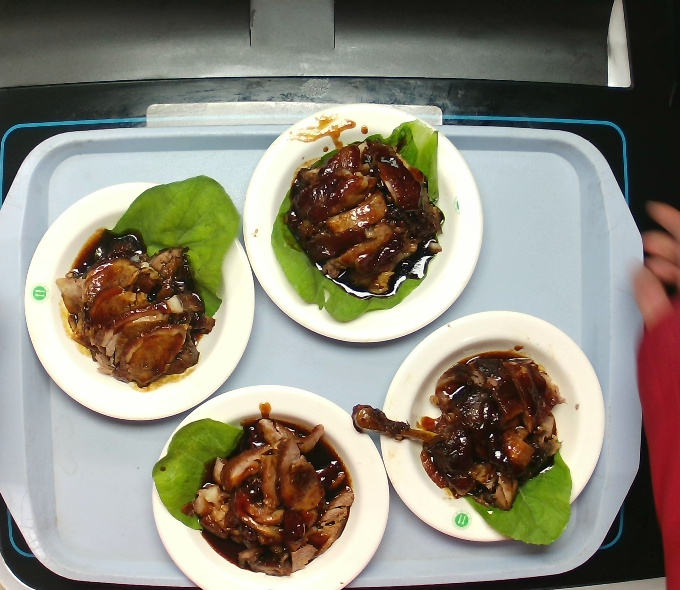wcq-MiZhiYa: (276, 109, 448, 330), (55, 190, 232, 398), (168, 398, 362, 585), (388, 345, 570, 533)
